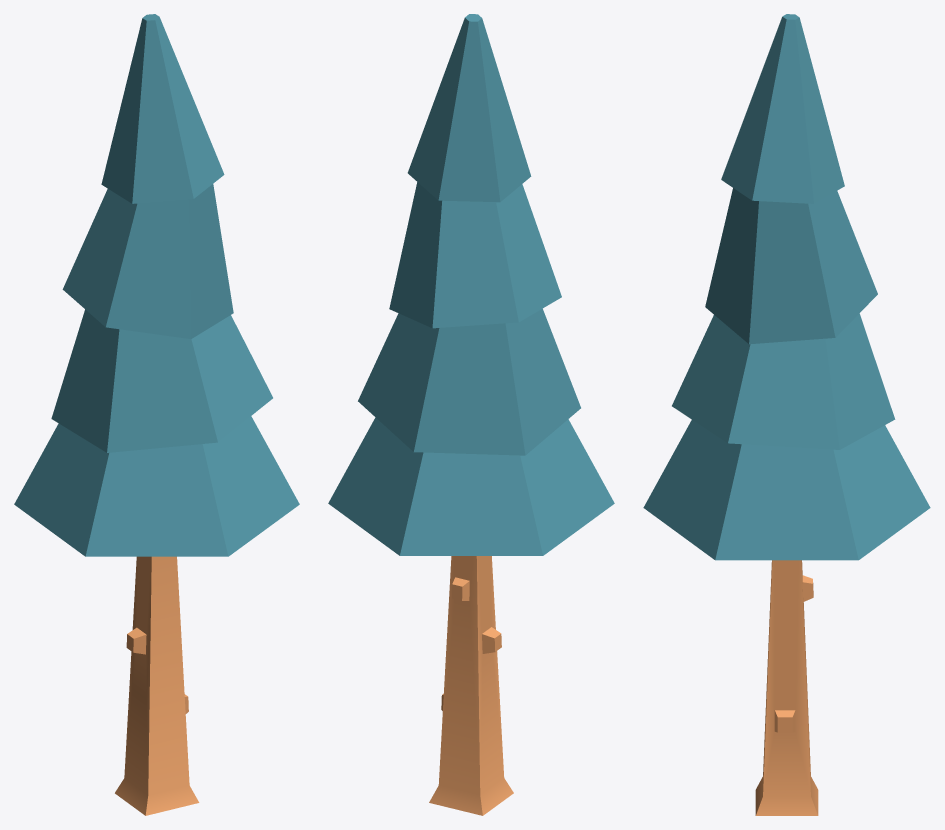
File: tree_pine_short_detailed.fbx
The picture shows the model from 3 angles, left to right: view 1: azimuth 30°, elevation 25°; view 2: azimuth 150°, elevation 25°; view 3: azimuth 270°, elevation 25°; orthographic projection.
Parts seen in each view (by area): view 1: tree_pine_short_detailed; view 2: tree_pine_short_detailed; view 3: tree_pine_short_detailed.
Boxes of the visible parts, x1=… form: tree_pine_short_detailed: x1=14, y1=14, x2=299, y2=815; tree_pine_short_detailed: x1=328, y1=14, x2=614, y2=815; tree_pine_short_detailed: x1=643, y1=14, x2=930, y2=815.
Size of the model in its own units: 4.8 by 16.72 by 5.55.
